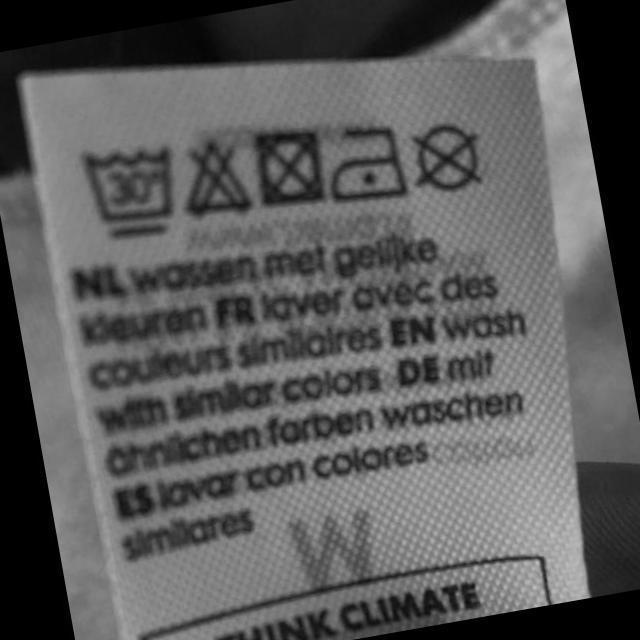30C: (74, 133, 188, 248)
DN_bleach: (169, 127, 262, 229)
DN_dry_clean: (404, 114, 492, 204)
DN_tumble_dry: (244, 117, 336, 217)
iron_low: (317, 113, 413, 212)
